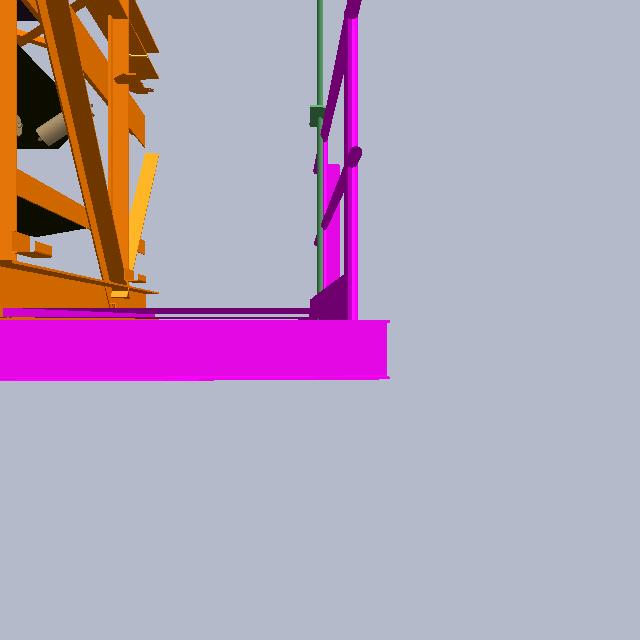Poste: (313, 3, 329, 350)
Soporte: (319, 158, 346, 346)
